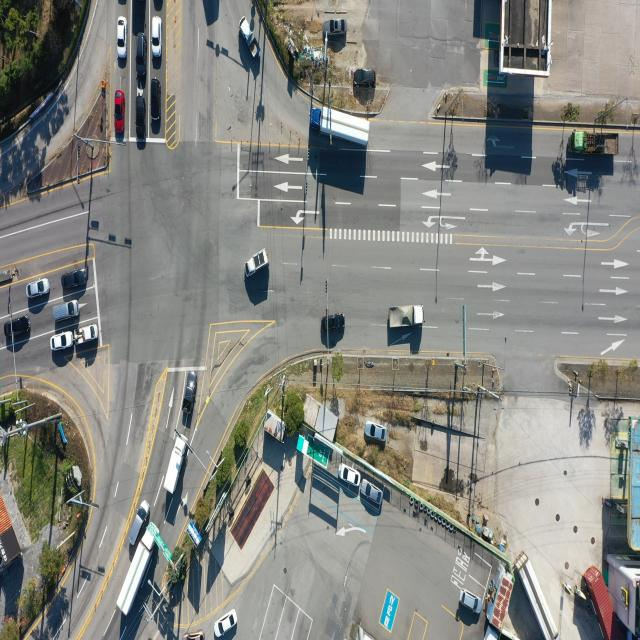car: (129, 500, 151, 546), (184, 369, 200, 414), (462, 586, 486, 614), (215, 607, 237, 637), (246, 250, 268, 278), (116, 88, 128, 139), (150, 77, 161, 128), (54, 300, 79, 322), (5, 316, 29, 338), (62, 270, 88, 290), (361, 483, 383, 506), (134, 96, 145, 140), (340, 463, 361, 486), (138, 33, 148, 80), (322, 314, 347, 332), (51, 333, 74, 352), (364, 422, 386, 441), (116, 18, 126, 58), (151, 17, 161, 57), (27, 280, 49, 298), (354, 68, 376, 86), (326, 19, 346, 36), (181, 628, 205, 640), (152, 0, 161, 11), (118, 0, 126, 6)
medium_truck: (118, 524, 158, 616), (520, 551, 562, 638), (312, 108, 372, 149), (166, 434, 191, 498), (569, 131, 617, 156), (389, 308, 423, 328)
small_truck: (237, 13, 258, 57), (76, 326, 98, 346)
